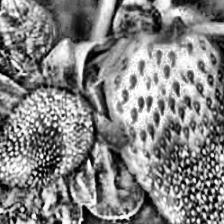Anthracnose Fruit Rot: (147, 85, 224, 224), (20, 120, 64, 184)
